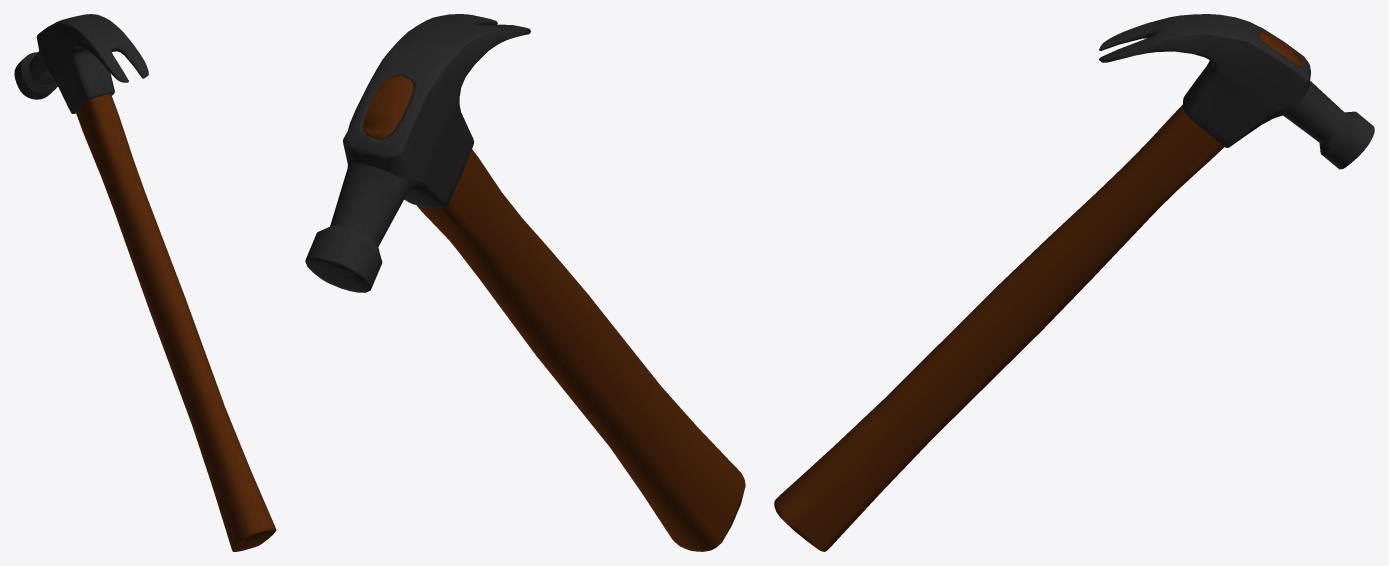
Rendered from Hammer.fbx.
3 renders of one model, left to right at view 1: azimuth 30°, elevation 25°; view 2: azimuth 150°, elevation 25°; view 3: azimuth 270°, elevation 25°, orthographic. The views are drawn at different scales.
Parts seen in each view (by area): view 1: Hammer.001; view 2: Hammer.001; view 3: Hammer.001.
Part boxes in pixels (box(x1,y1,x2,y2)): Hammer.001: box(14, 14, 276, 551); Hammer.001: box(305, 14, 745, 551); Hammer.001: box(774, 14, 1374, 551).
Size of the model in its own units: 0.0231 by 0.2583 by 0.2682.
